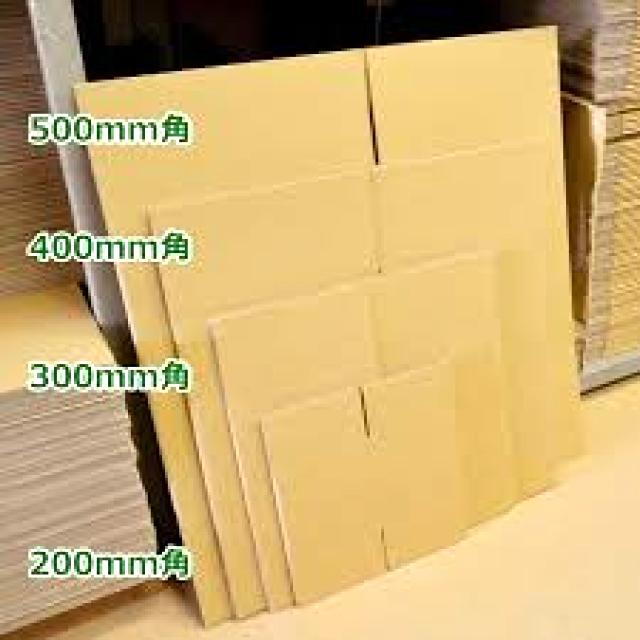Cardboard: (59, 12, 602, 640)
